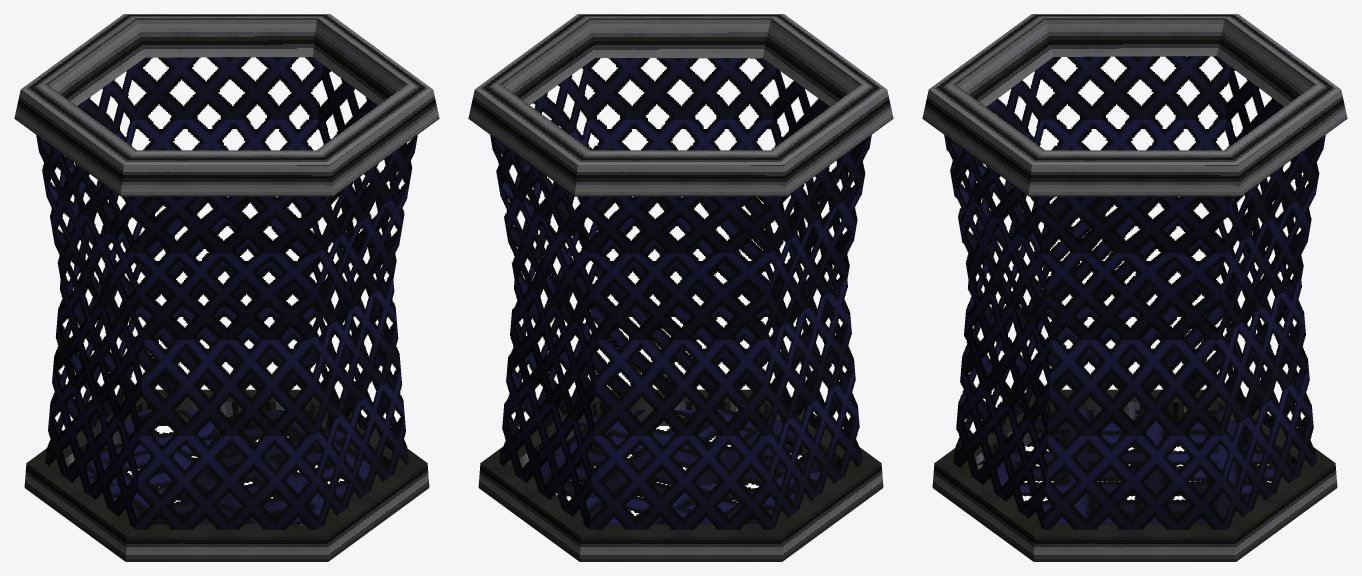
The model's file is Trash_Can_Office_01.fbx.
The picture shows the model from 3 angles, left to right: view 1: azimuth 30°, elevation 25°; view 2: azimuth 150°, elevation 25°; view 3: azimuth 270°, elevation 25°; orthographic projection.
Visible parts, largest first — view 1: Trashcan_office_2; view 2: Trashcan_office_2; view 3: Trashcan_office_2.
Boxes of the visible parts, x1,y1,x2,y2 form: Trashcan_office_2: (14,14,439,561); Trashcan_office_2: (468,14,893,561); Trashcan_office_2: (922,14,1347,561).
Size of the model in its own units: 62.6 by 75.7 by 72.29.
